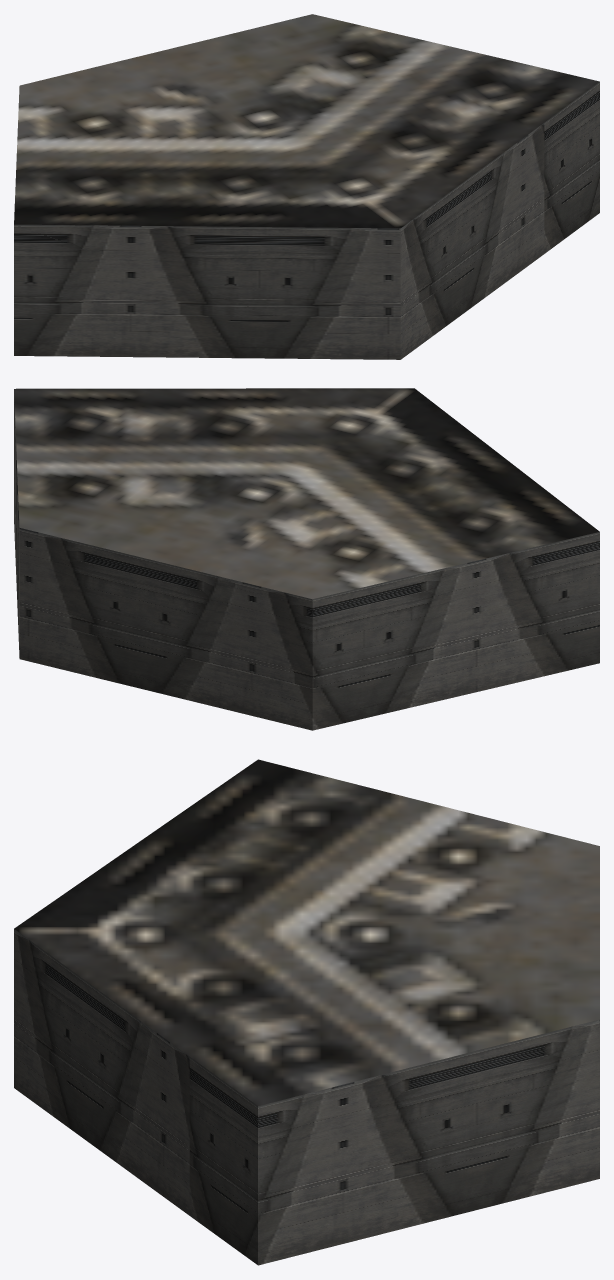
Rendered from fortress_hard_35.glb.
3 renders of one model, top to bottom at view 1: azimuth 30°, elevation 25°; view 2: azimuth 150°, elevation 25°; view 3: azimuth 270°, elevation 25°, orthographic. The views are drawn at different scales.
Visible parts, largest first — view 1: buildings/saxarba/fortress_hard/fortress_hard_35; view 2: buildings/saxarba/fortress_hard/fortress_hard_35; view 3: buildings/saxarba/fortress_hard/fortress_hard_35.
Boxes of the visible parts, x1,y1,x2,y2 form: buildings/saxarba/fortress_hard/fortress_hard_35: (14, 14, 599, 359); buildings/saxarba/fortress_hard/fortress_hard_35: (14, 388, 599, 730); buildings/saxarba/fortress_hard/fortress_hard_35: (14, 759, 599, 1265).
Size of the model in its own units: 84 by 18 by 60.
